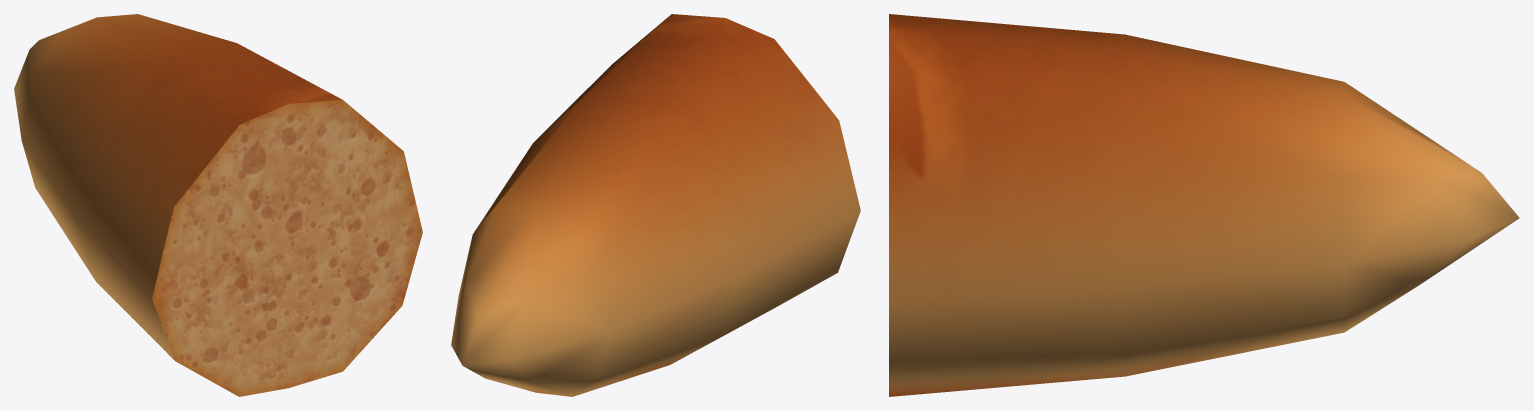
The model's file is Baguette_02_End.fbx.
3 views of the same model, side by side, from view 1: azimuth 30°, elevation 25°; view 2: azimuth 150°, elevation 25°; view 3: azimuth 270°, elevation 25° (orthographic). The views are drawn at different scales.
Parts seen in each view (by area): view 1: Baguette_02_End; view 2: Baguette_02_End; view 3: Baguette_02_End.
Boxes of the visible parts, <box> form: Baguette_02_End: <box>14,14,422,396</box>; Baguette_02_End: <box>451,14,860,396</box>; Baguette_02_End: <box>889,14,1519,396</box>.
Bounding box in the file's own units: 17.93 × 17.98 × 30.43.
